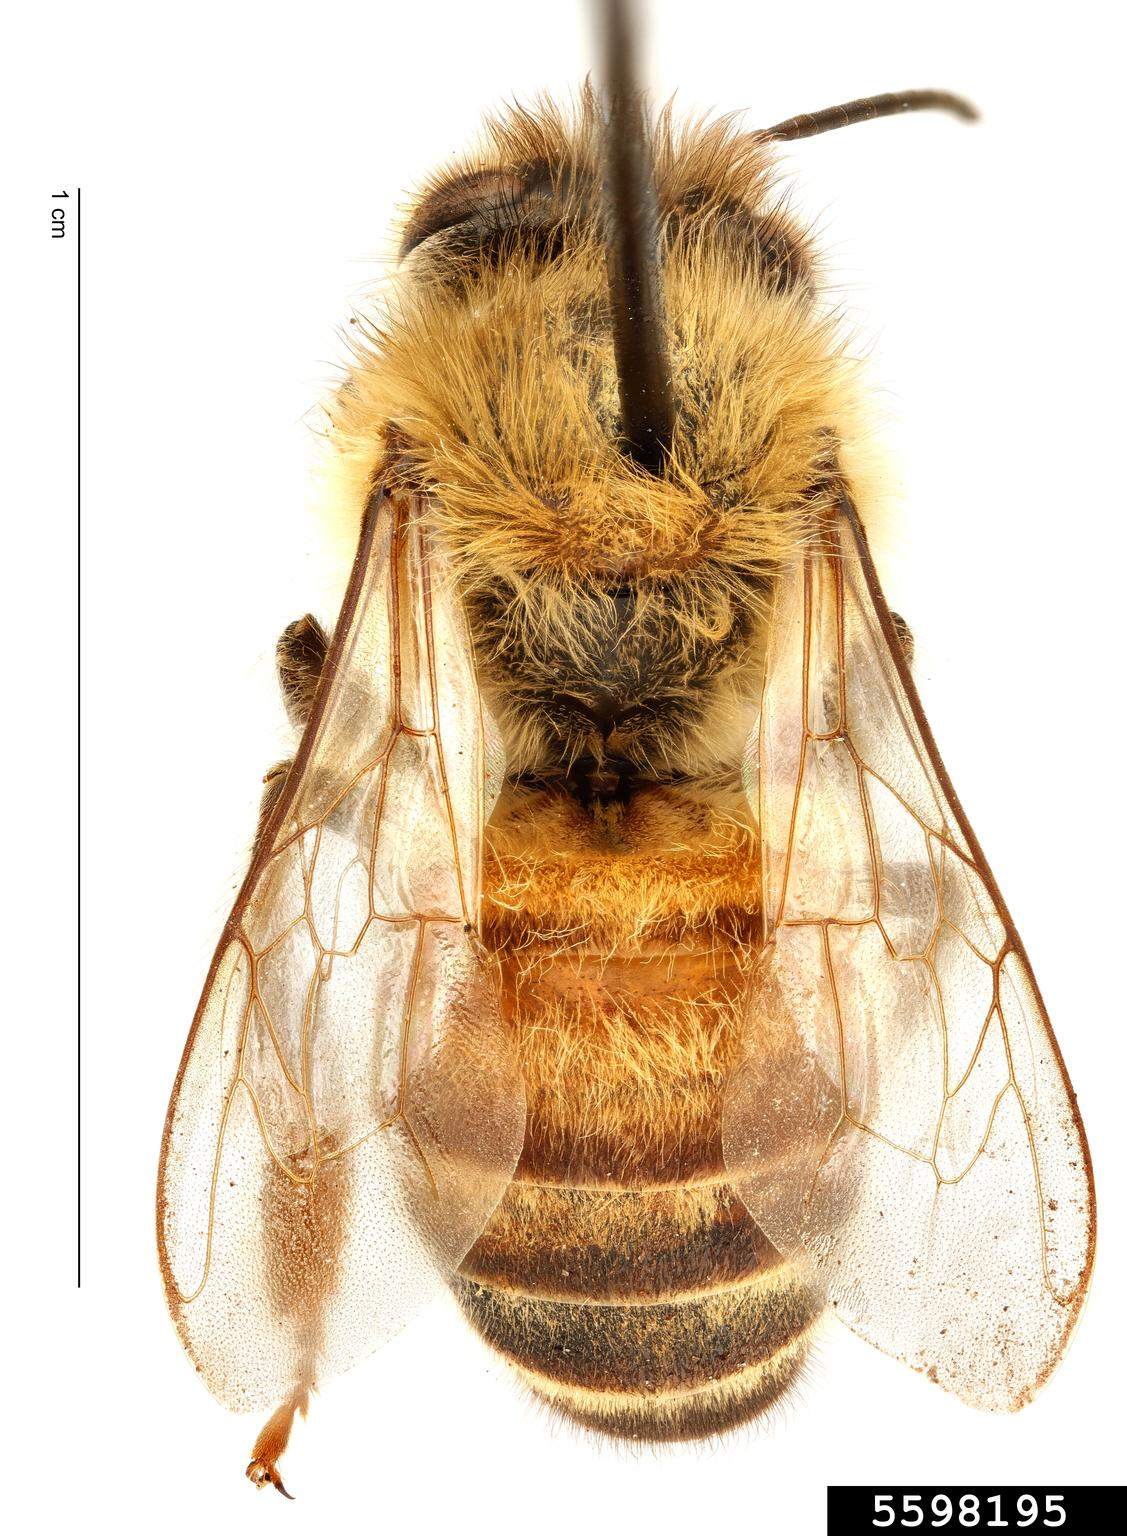Apis-mellifera-scutellata: (216, 39, 1072, 1445)
